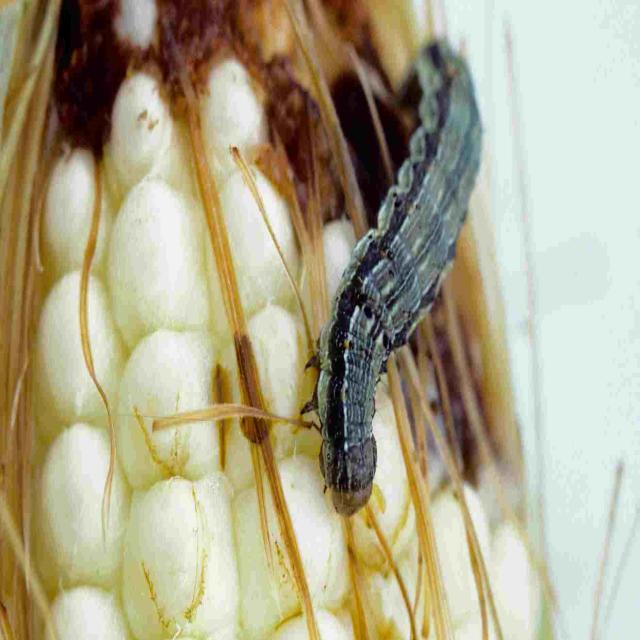worm: (306, 34, 493, 534)
